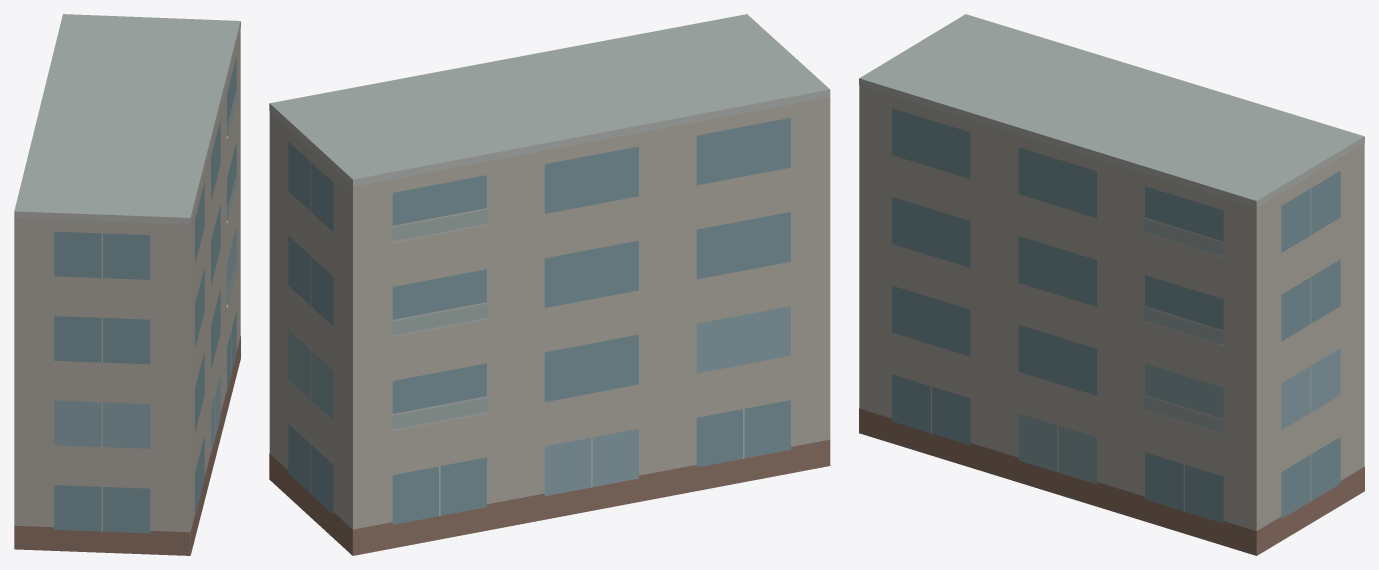
Rendered from survey-upis-32916681.glb.
3 renders of one model, left to right at view 1: azimuth 30°, elevation 25°; view 2: azimuth 150°, elevation 25°; view 3: azimuth 270°, elevation 25°, orthographic. The views are drawn at different scales.
Visible parts, largest first — view 1: survey-upis-32916681.tmp; view 2: survey-upis-32916681.tmp; view 3: survey-upis-32916681.tmp.
Part boxes in pixels (x1=…): survey-upis-32916681.tmp: x1=14, y1=14, x2=240, y2=555; survey-upis-32916681.tmp: x1=269, y1=14, x2=830, y2=555; survey-upis-32916681.tmp: x1=859, y1=14, x2=1364, y2=555.
Size of the model in its own units: 14.02 by 12.4 by 16.02.
